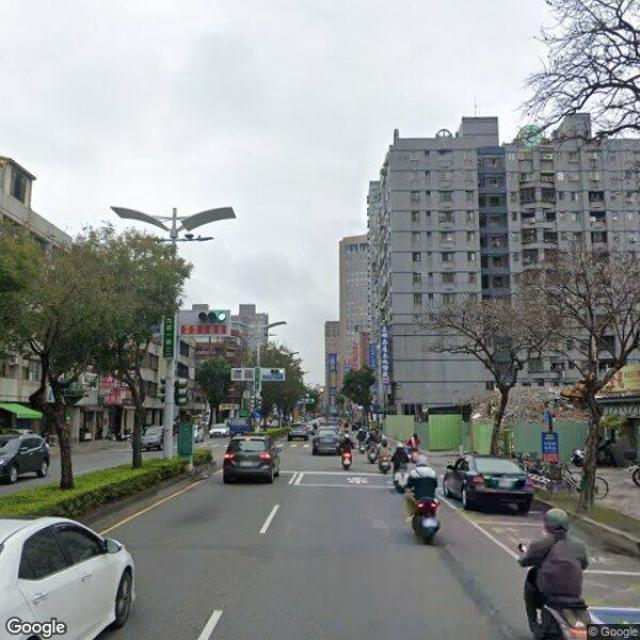Legalparking: (438, 457, 534, 518)
illegalparking: (392, 440, 449, 538)
